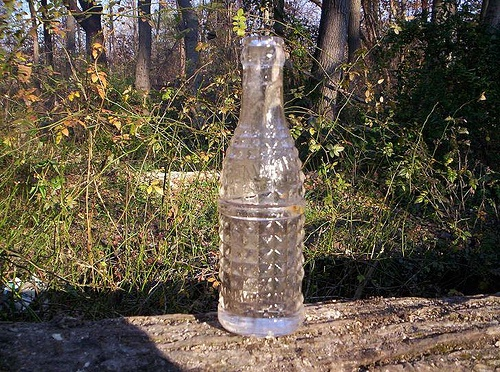emptybottle: (217, 36, 306, 336)
